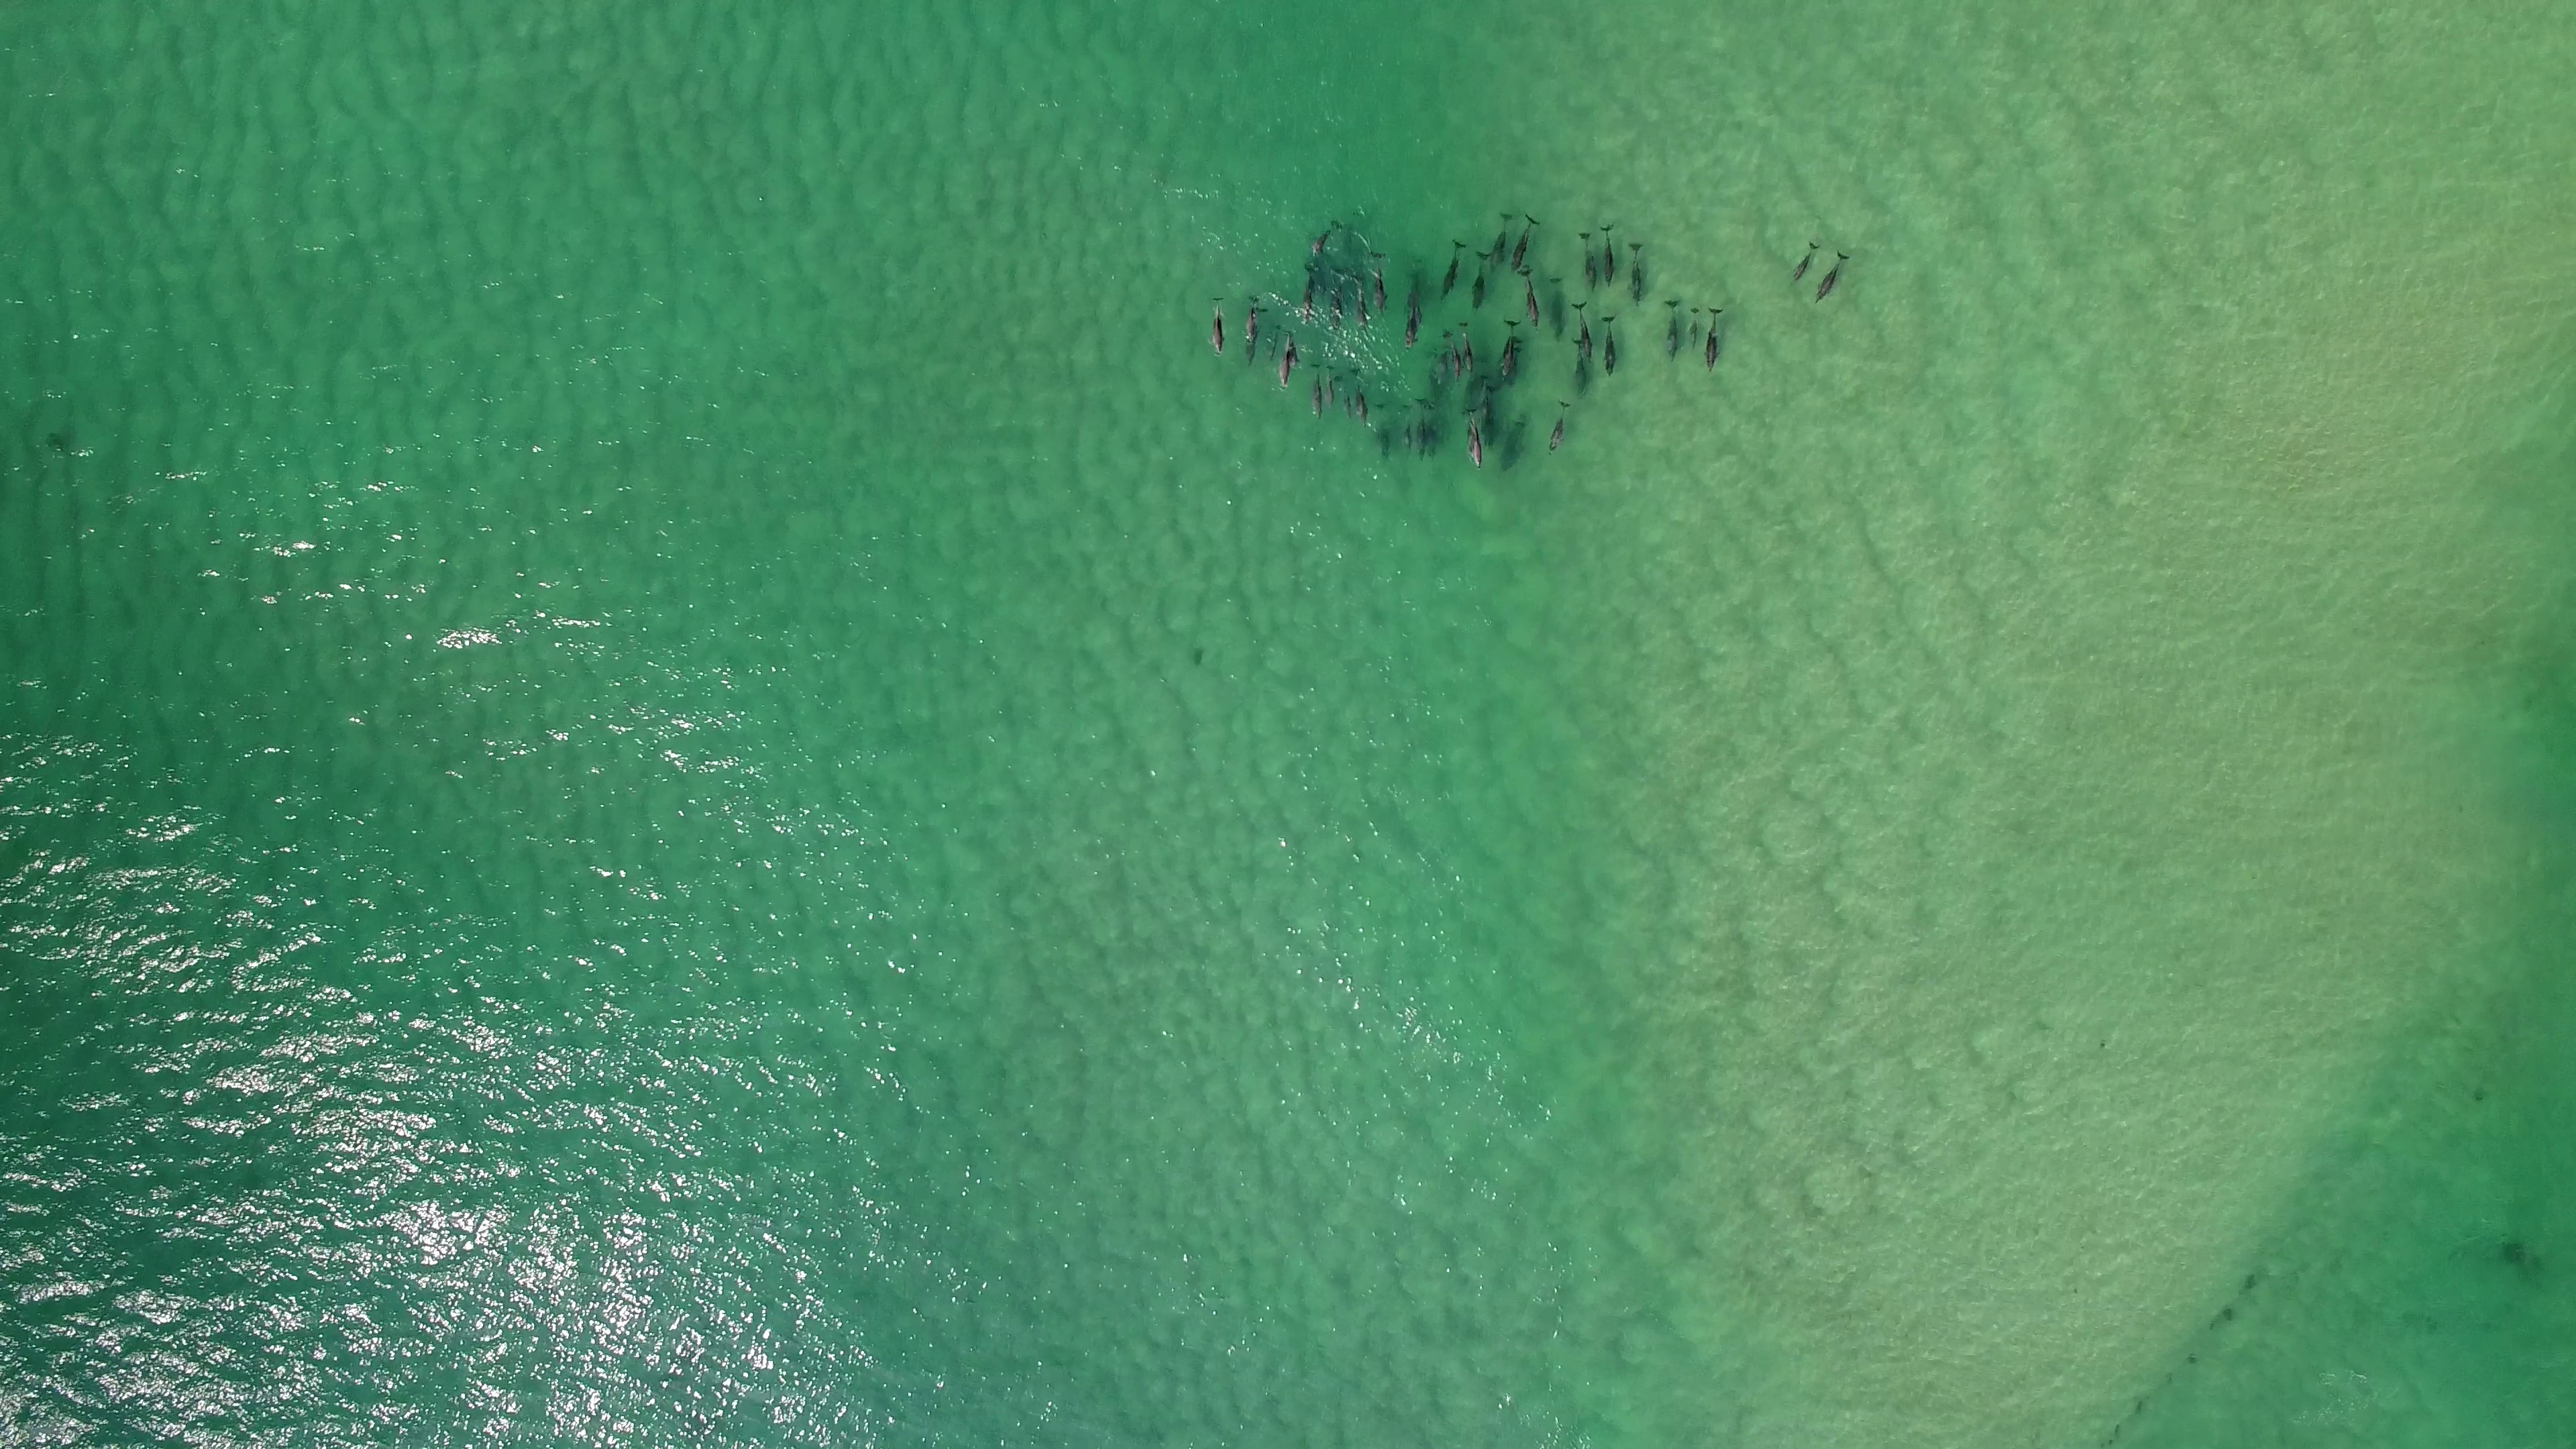dolphin: (1509, 211, 1541, 274), (1815, 249, 1849, 308), (1366, 249, 1396, 313), (1437, 239, 1467, 301), (1516, 272, 1545, 333), (1502, 414, 1530, 474), (1571, 301, 1598, 364), (1246, 306, 1272, 366), (1346, 274, 1371, 336), (1348, 366, 1371, 430), (1704, 306, 1725, 373), (1599, 313, 1621, 380), (1470, 246, 1491, 313), (1626, 239, 1645, 311), (1787, 241, 1819, 285), (1491, 203, 1513, 269), (1576, 230, 1599, 290), (1461, 412, 1484, 472), (1502, 317, 1522, 386), (1302, 264, 1323, 326), (1438, 331, 1463, 384), (1456, 320, 1477, 380), (1548, 398, 1571, 453), (1548, 274, 1566, 345), (1277, 329, 1297, 391), (1311, 218, 1343, 253), (1327, 274, 1346, 331), (1665, 297, 1681, 366), (1210, 294, 1226, 363), (1407, 269, 1424, 331), (1307, 363, 1325, 423), (1279, 327, 1302, 373), (1571, 338, 1587, 402), (1461, 410, 1481, 462), (1373, 403, 1391, 458), (1499, 336, 1525, 372), (1431, 347, 1449, 398), (1470, 373, 1491, 414), (1246, 292, 1261, 345), (1336, 379, 1353, 425), (1414, 398, 1426, 464), (1322, 364, 1338, 412), (1405, 292, 1415, 356), (1403, 400, 1414, 453), (1688, 303, 1698, 352)
